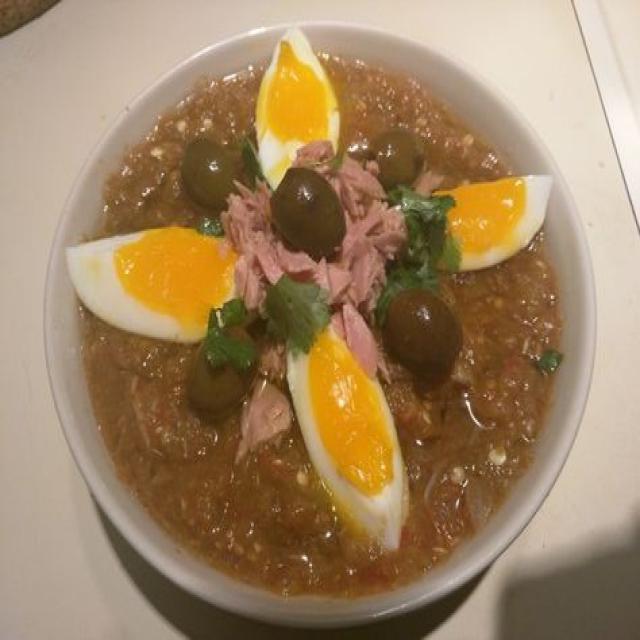Salade mechweya: (39, 14, 600, 640)
